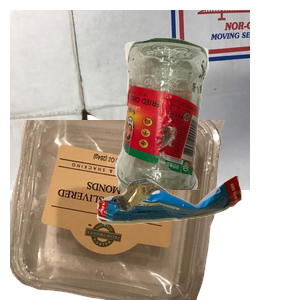cardboard: (10, 10, 250, 190)
glass: (112, 35, 300, 215)
plastic: (10, 120, 227, 300)
trash: (94, 173, 300, 300)
